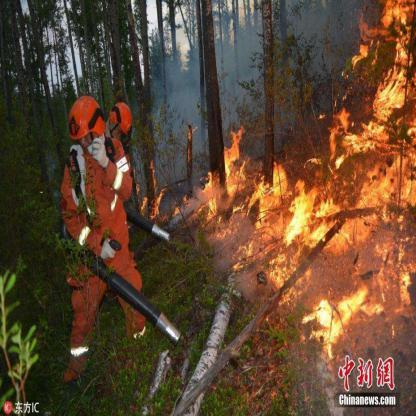fire: (193, 9, 413, 342)
